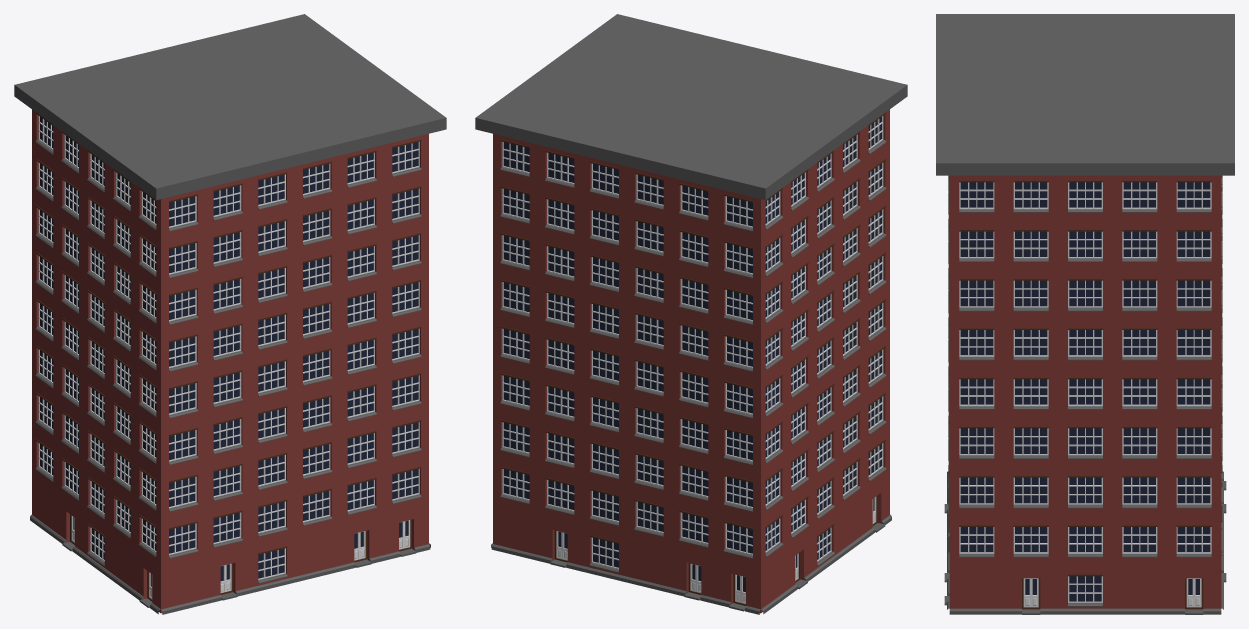
The model's file is GeoNodes Building.fbx.
3 renders of one model, left to right at view 1: azimuth 30°, elevation 25°; view 2: azimuth 150°, elevation 25°; view 3: azimuth 270°, elevation 25°, orthographic. The views are drawn at different scales.
Visible parts, largest first — view 1: Building.Export; view 2: Building.Export; view 3: Building.Export.
Boxes of the visible parts, x1,y1,x2,y2 form: Building.Export: [14, 14, 446, 614]; Building.Export: [475, 14, 907, 614]; Building.Export: [936, 14, 1234, 614].
Bounding box in the file's own units: 1300 × 1853 × 1100.
